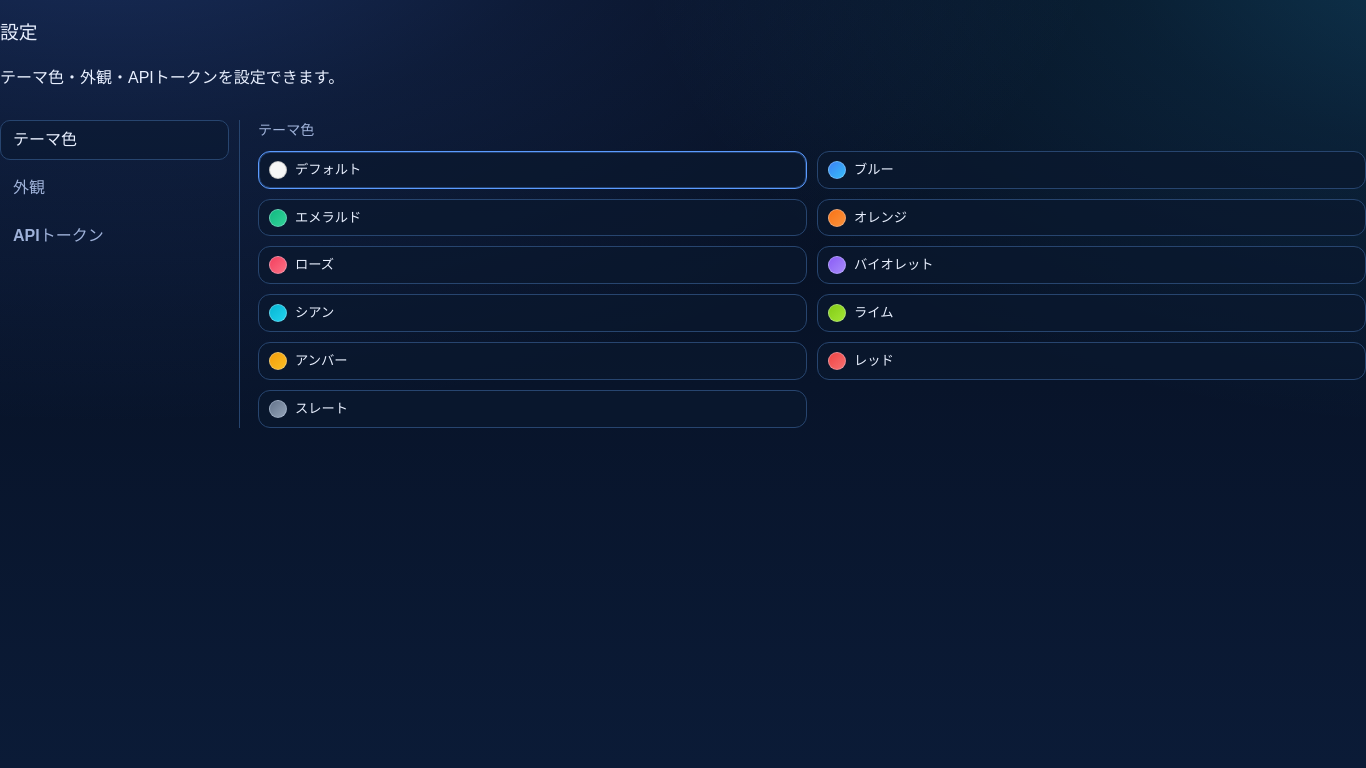
Test: SettingsPanel › renders admin role badge for admin token
This screenshot has width=1366, height=768.
Step 1. Click the tab "APIトークン" → (114, 236), box left=0, top=216, right=229, bottom=257
(page scrolled)
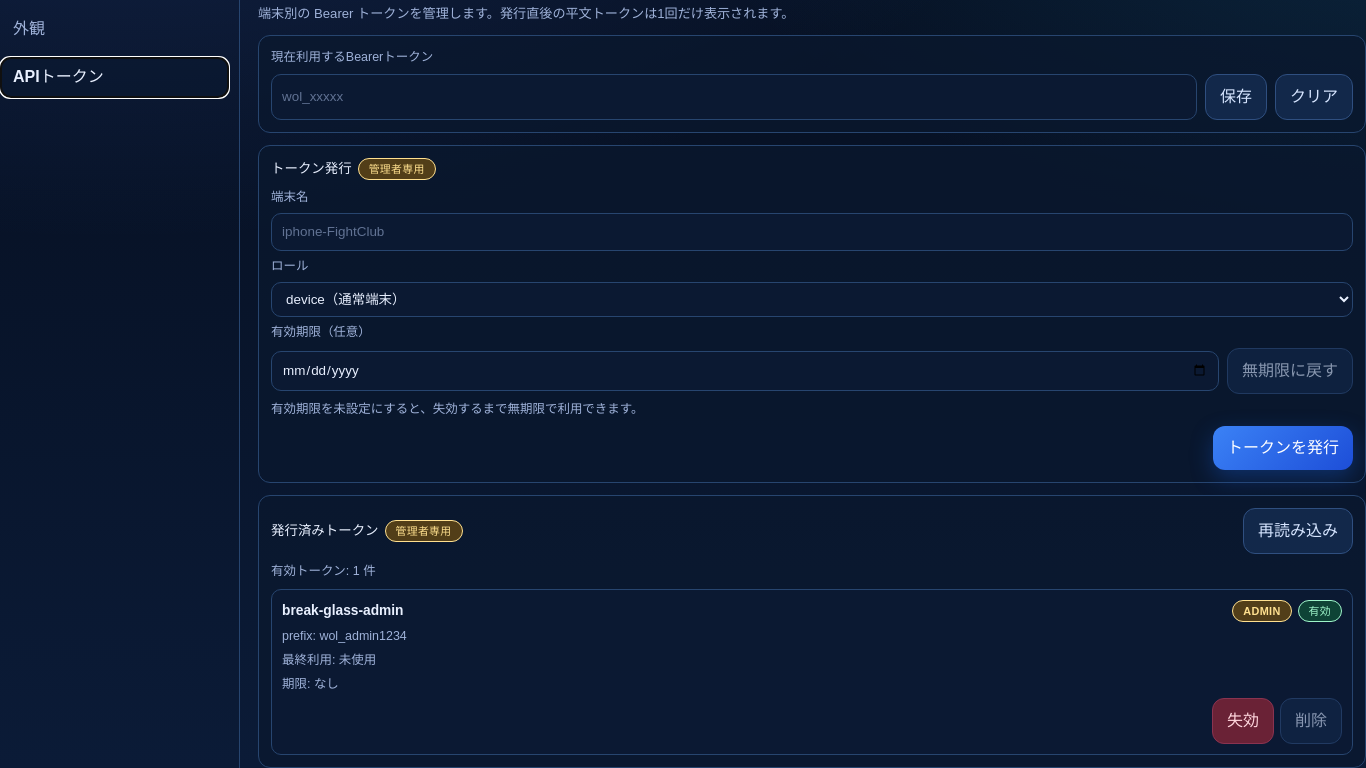
Now the text "ADMIN" is shown, box left=1232, top=600, right=1292, bottom=622
